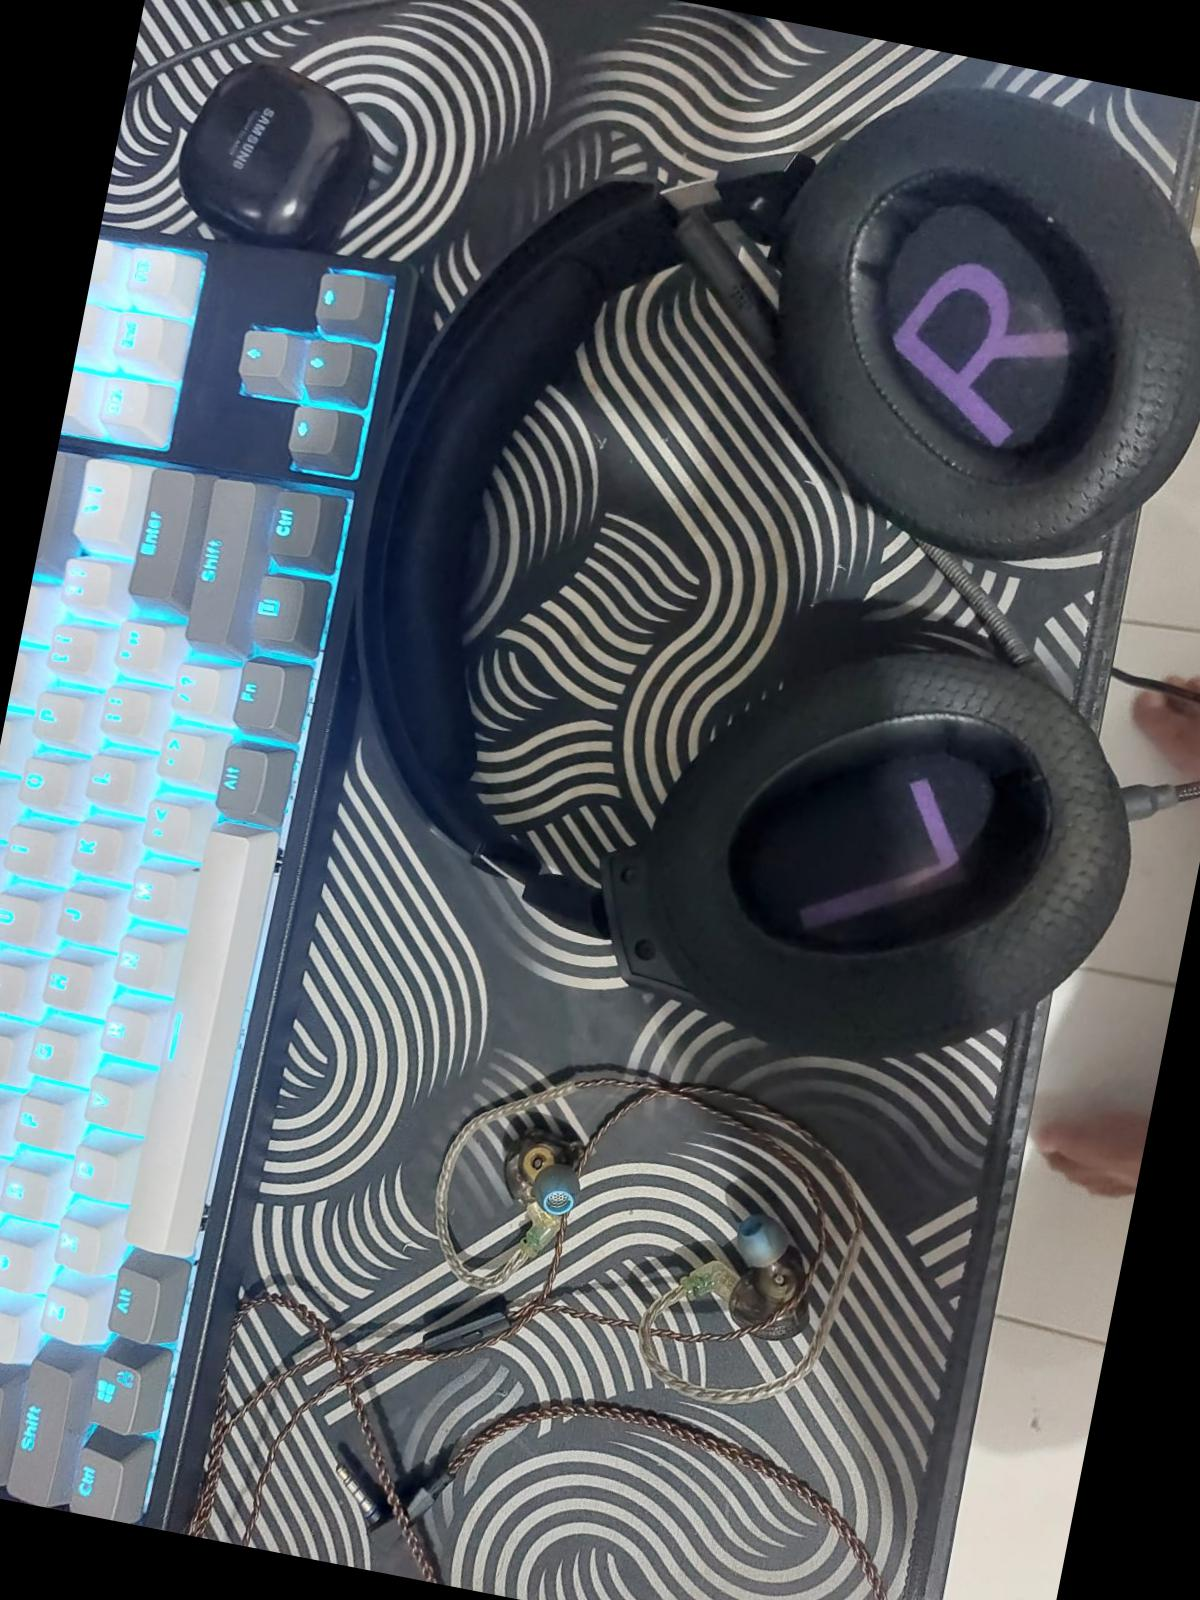Earphone: (663, 1188, 838, 1351), (466, 1117, 604, 1270)
Headset: (279, 0, 1199, 1111)
